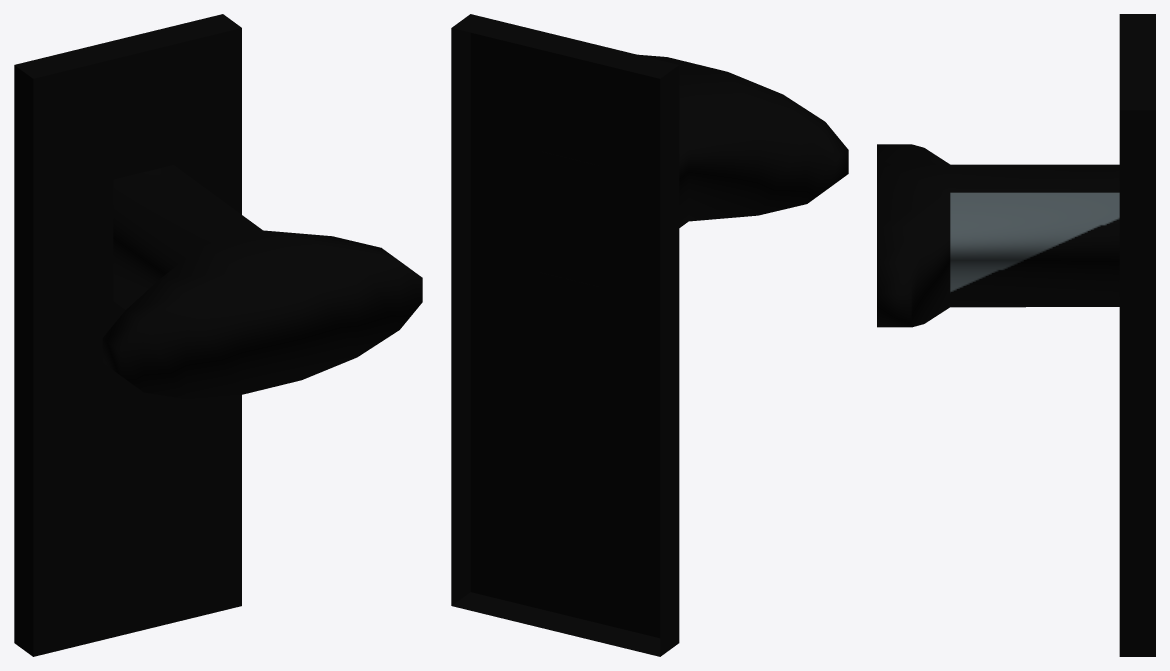
3 views of the same model, side by side, from view 1: azimuth 30°, elevation 25°; view 2: azimuth 150°, elevation 25°; view 3: azimuth 270°, elevation 25° (orthographic). The views are drawn at different scales.
Visible parts, largest first — view 1: Handle_Basic_2; view 2: Handle_Basic_2; view 3: Handle_Basic_2.
Part boxes in pixels (<box>): Handle_Basic_2: <box>14,14,422,656</box>; Handle_Basic_2: <box>451,14,848,656</box>; Handle_Basic_2: <box>877,14,1155,656</box>.
Size of the model in its own units: 6.4 by 11.7 by 5.41.
1 material, 1 textured.
